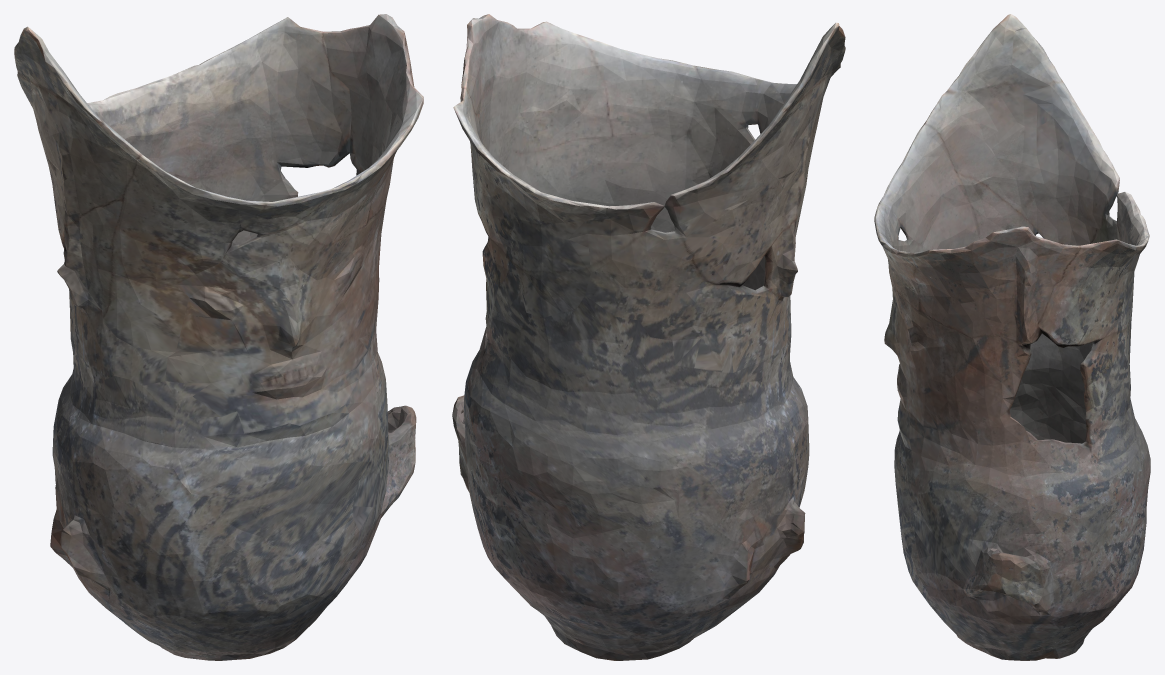
The picture shows the model from 3 angles, left to right: view 1: azimuth 30°, elevation 25°; view 2: azimuth 150°, elevation 25°; view 3: azimuth 270°, elevation 25°; orthographic projection. The views are drawn at different scales.
Parts seen in each view (by area): view 1: MA6048; view 2: MA6048; view 3: MA6048.
Boxes of the visible parts, <box> form: MA6048: <box>14,14,423,660</box>; MA6048: <box>452,14,845,660</box>; MA6048: <box>874,14,1150,660</box>.
Bounding box in the file's own units: 1.33 × 2.17 × 0.9962.
Materials: 1 (1 with a texture image).
